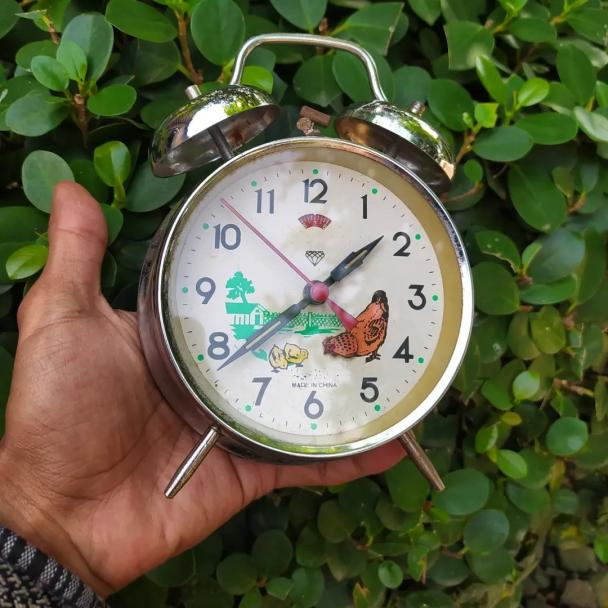Jam: (136, 27, 474, 501)
